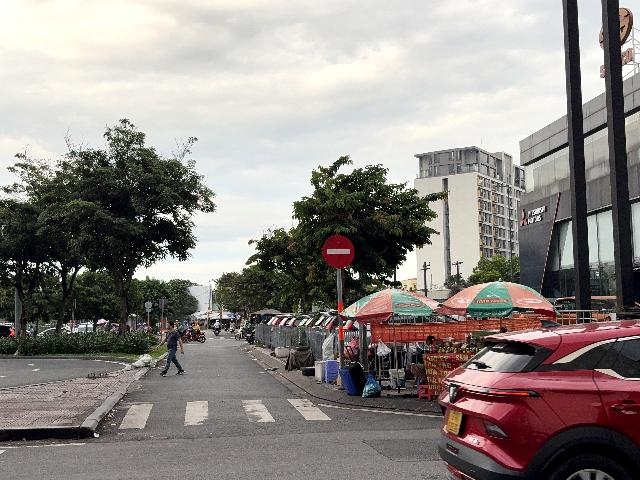cam-di-nguoc-chieu: (322, 235, 354, 269)
